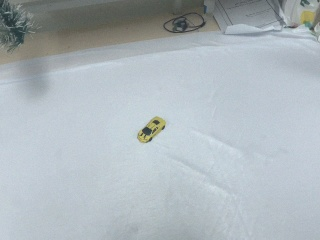toy_car: (132, 115, 166, 143)
